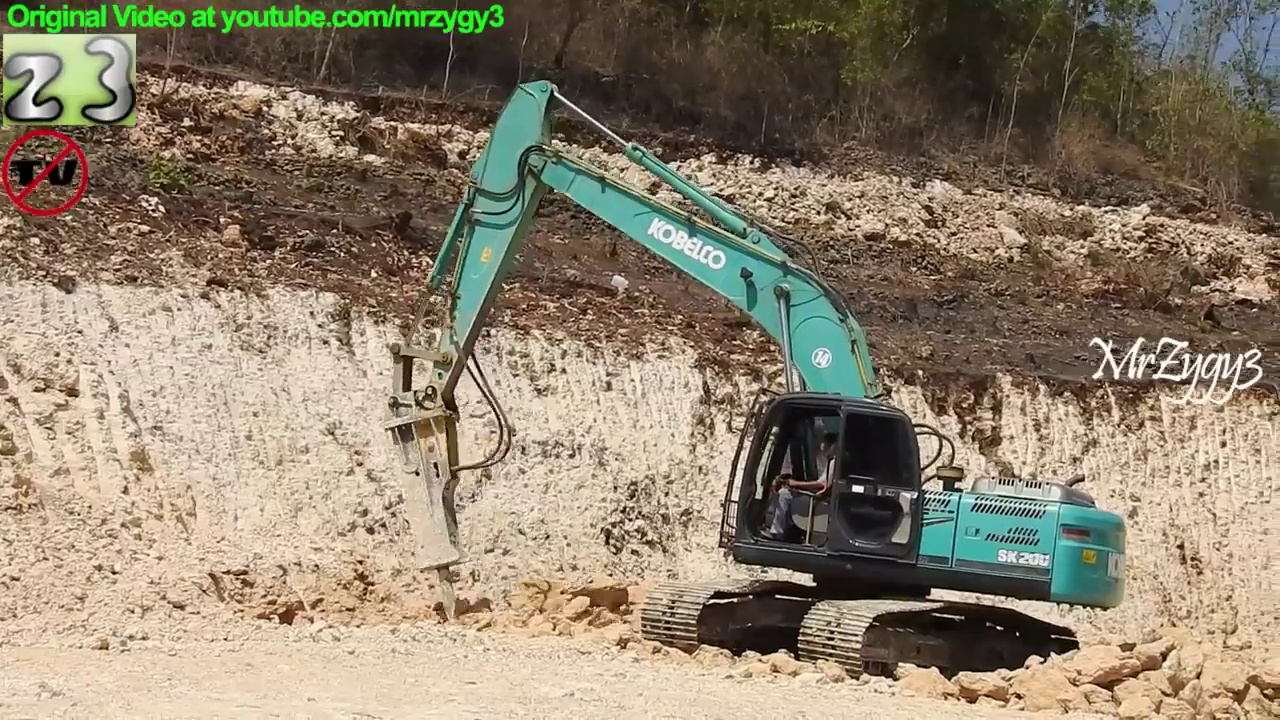excavator breaker: (374, 75, 1138, 699)
